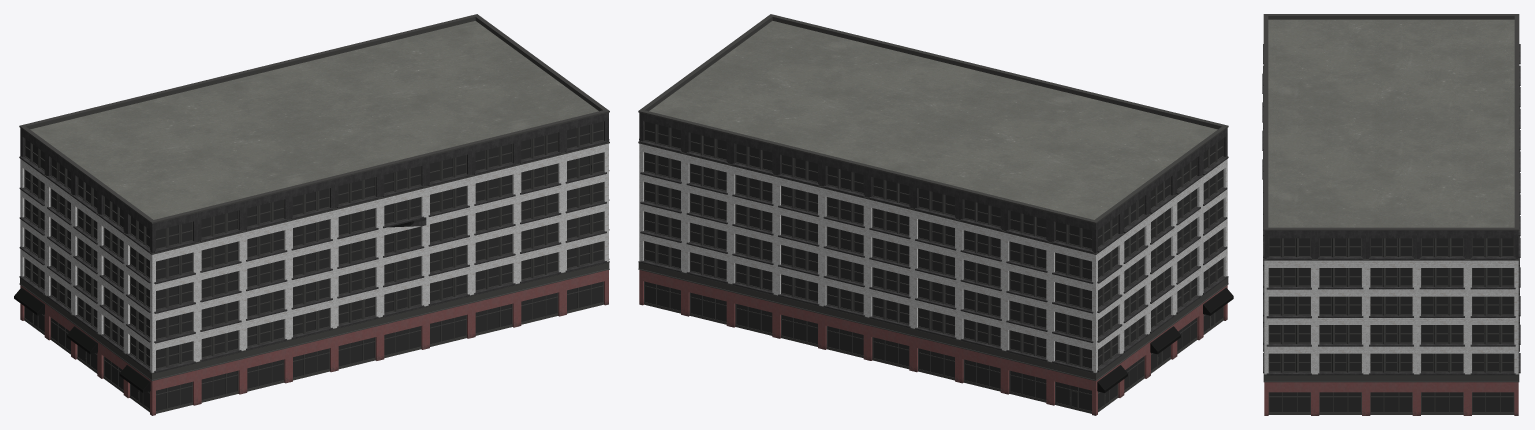
3 views of the same model, side by side, from view 1: azimuth 30°, elevation 25°; view 2: azimuth 150°, elevation 25°; view 3: azimuth 270°, elevation 25° (orthographic). The views are drawn at different scales.
Visible parts, largest first — view 1: Building_Generic_2_2_27; view 2: Building_Generic_2_2_27; view 3: Building_Generic_2_2_27.
Boxes of the visible parts, bbox=[...] form: Building_Generic_2_2_27: bbox=[14, 14, 609, 415]; Building_Generic_2_2_27: bbox=[638, 14, 1233, 415]; Building_Generic_2_2_27: bbox=[1262, 14, 1520, 415].
Size of the model in its own units: 56.14 by 22.28 by 27.94.
4 materials, 4 textured.
